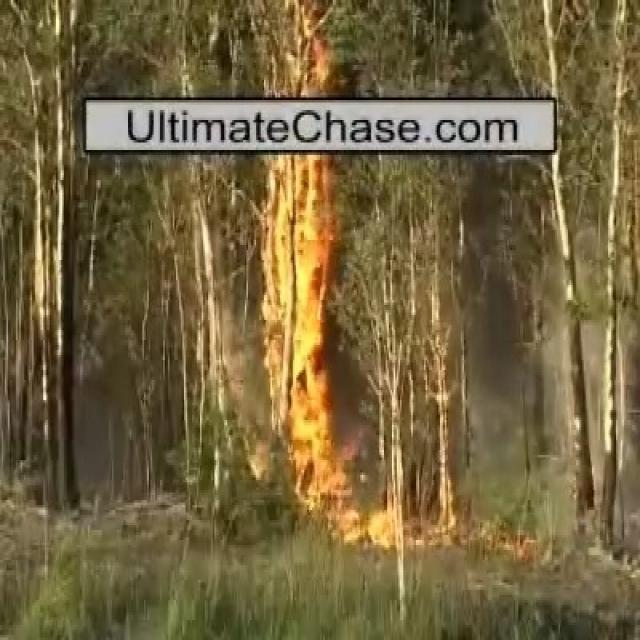fire: (261, 156, 338, 512)
